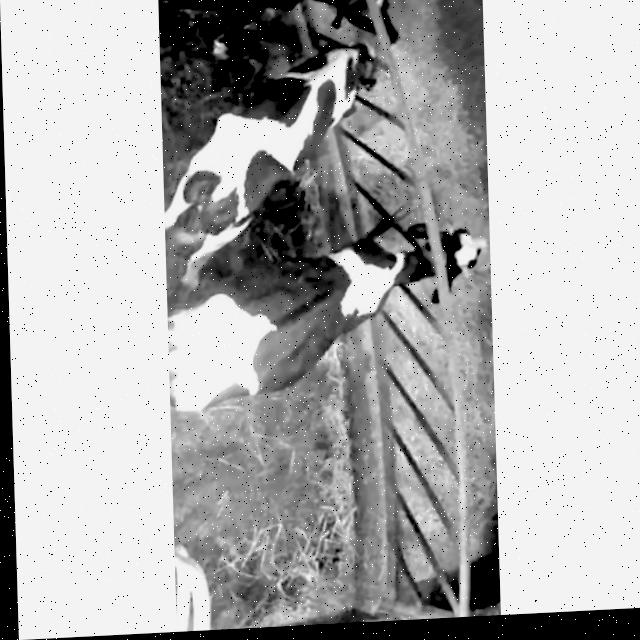eat: (237, 27, 457, 152), (311, 182, 492, 329), (232, 0, 424, 39)
